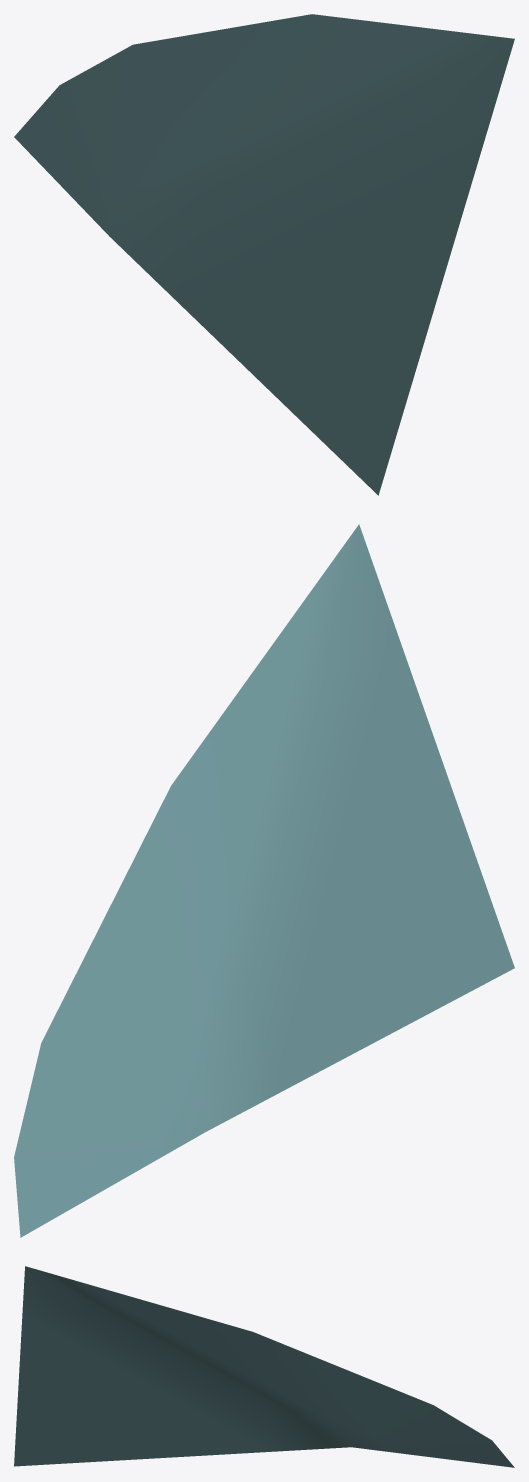
Rendered from OldSchool_1_Door_Window_RR_Tessellate.fbx.
3 views of the same model, one above another, from view 1: azimuth 30°, elevation 25°; view 2: azimuth 150°, elevation 25°; view 3: azimuth 270°, elevation 25° (orthographic). The views are drawn at different scales.
Visible parts, largest first — view 1: OldSchool_1_Door_Window_RR_Tessellate; view 2: OldSchool_1_Door_Window_RR_Tessellate; view 3: OldSchool_1_Door_Window_RR_Tessellate.
Boxes of the visible parts, x1,y1,x2,y2 form: OldSchool_1_Door_Window_RR_Tessellate: (14, 14, 514, 495); OldSchool_1_Door_Window_RR_Tessellate: (14, 524, 514, 1237); OldSchool_1_Door_Window_RR_Tessellate: (14, 1266, 514, 1467).
Size of the model in its own units: 105 by 284 by 534.
